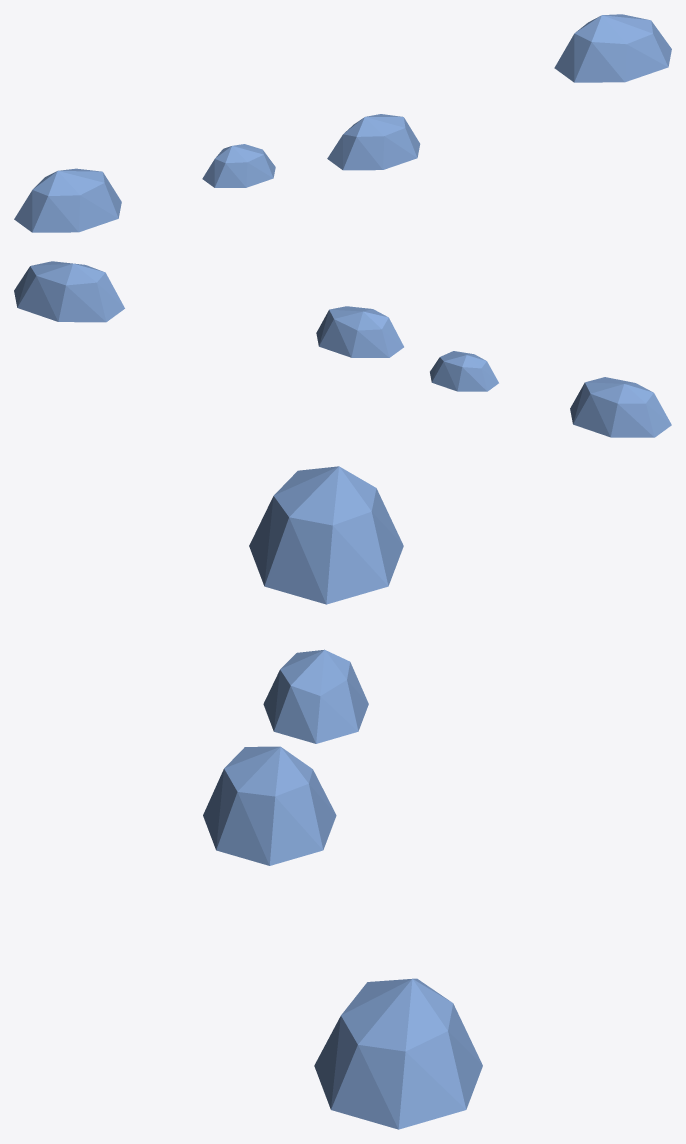
3 views of the same model, one above another, from view 1: azimuth 30°, elevation 25°; view 2: azimuth 150°, elevation 25°; view 3: azimuth 270°, elevation 25° (orthographic). The views are drawn at different scales.
Visible parts, largest first — view 1: 蓝灰雪地石块.001; view 2: 蓝灰雪地石块.001; view 3: 蓝灰雪地石块.001.
Part boxes in pixels (<box>): 蓝灰雪地石块.001: <box>14,14,671,232</box>; 蓝灰雪地石块.001: <box>14,261,671,437</box>; 蓝灰雪地石块.001: <box>203,466,482,1129</box>.
Size of the model in its own units: 2.83 by 0.192 by 0.5435.
